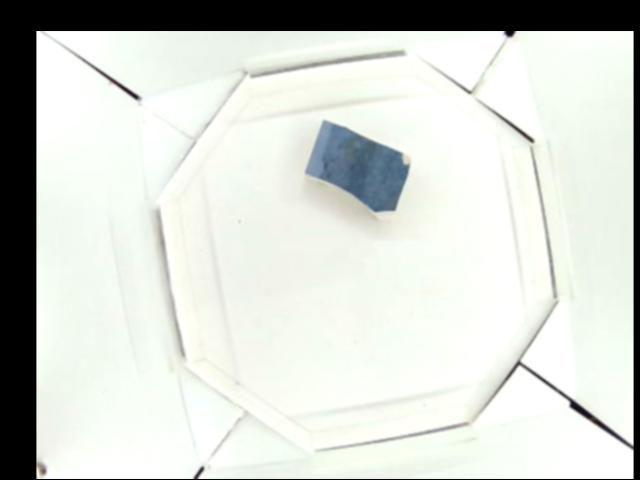China: (305, 117, 412, 214)
